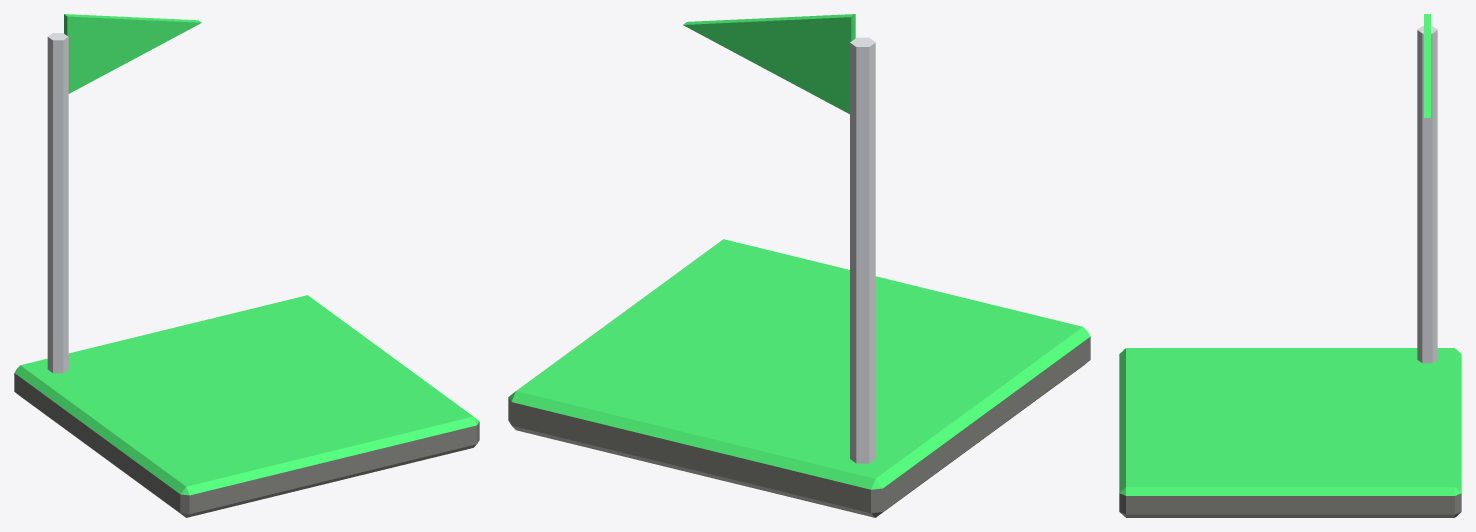
File: Checkpoint.fbx
3 renders of one model, left to right at view 1: azimuth 30°, elevation 25°; view 2: azimuth 150°, elevation 25°; view 3: azimuth 270°, elevation 25°, orthographic. The views are drawn at different scales.
Parts seen in each view (by area): view 1: Checkpoint; view 2: Checkpoint; view 3: Checkpoint.
Part boxes in pixels (left/top/right/bottom): Checkpoint: left=14, top=14, right=479, bottom=517; Checkpoint: left=508, top=14, right=1090, bottom=517; Checkpoint: left=1119, top=14, right=1461, bottom=517.
Size of the model in its own units: 4 by 4.9 by 4.
Materials: 1 (1 with a texture image).
